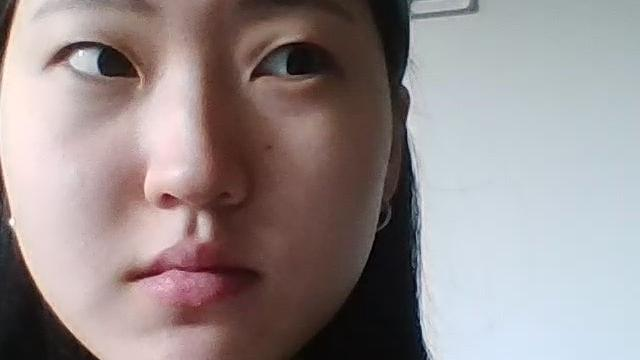eye: (288, 48, 321, 79), (99, 49, 133, 78)
iris: (64, 42, 140, 80), (257, 44, 334, 81)
